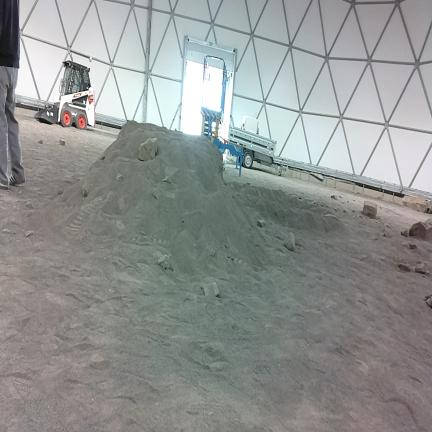Rock: (409, 218, 431, 239), (138, 138, 157, 161), (403, 196, 427, 212), (396, 254, 414, 272), (201, 282, 219, 296), (363, 201, 376, 218), (157, 254, 170, 270), (284, 233, 295, 250), (415, 262, 429, 274), (91, 353, 104, 363), (82, 182, 89, 198), (424, 295, 432, 308), (276, 208, 286, 218), (152, 188, 159, 199), (257, 220, 265, 227), (162, 176, 170, 183), (26, 230, 34, 237), (401, 230, 409, 237), (384, 230, 391, 237), (116, 173, 123, 180), (26, 201, 32, 209), (2, 229, 11, 233), (409, 244, 416, 249), (402, 242, 408, 247), (331, 195, 337, 200), (60, 139, 65, 145), (100, 155, 105, 160), (58, 190, 63, 194), (38, 140, 43, 143), (228, 253, 230, 258), (352, 210, 355, 213), (344, 210, 346, 213)
